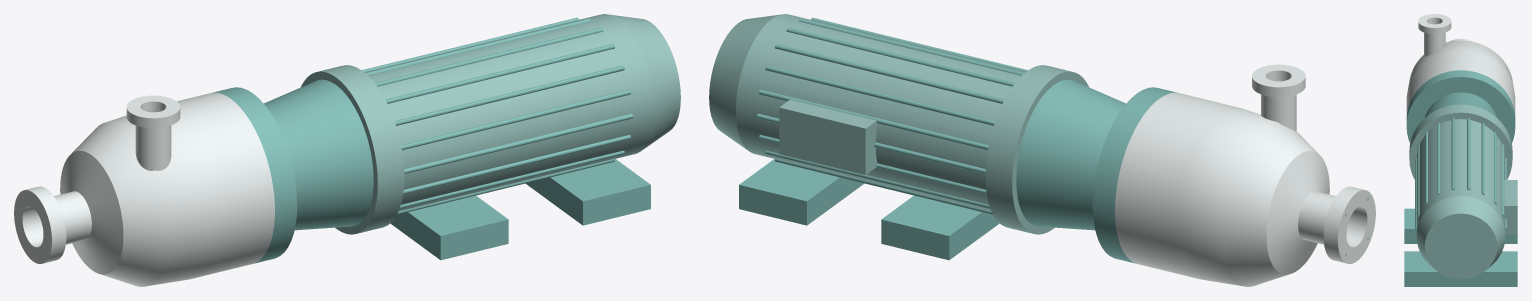
3 views of the same model, side by side, from view 1: azimuth 30°, elevation 25°; view 2: azimuth 150°, elevation 25°; view 3: azimuth 270°, elevation 25° (orthographic). The views are drawn at different scales.
Visible parts, largest first — view 1: 泵体_圆弧壳与轴向进液口, 电机_带筋机壳, 连接座_短连接段, 支脚_电机底脚 (×2), 电机_连接法兰, 连接座_泵壳连接环, 电机_圆弧尾罩, 接口_朝上出液法兰, 接口_偏置竖向出液管, 电机_散热筋09, 电机_散热筋08, 电机_散热筋10 (+7 smaller); view 2: 泵体_圆弧壳与轴向进液口, 电机_带筋机壳, 连接座_短连接段, 支脚_电机底脚 (×2), 电机_连接法兰, 电机_接线盒, 连接座_泵壳连接环, 电机_圆弧尾罩, 接口_朝上出液法兰, 电机_散热筋03, 电机_散热筋04, 电机_散热筋05 (+8 smaller); view 3: 电机_带筋机壳, 电机_圆弧尾罩, 连接座_泵壳连接环, 泵体_圆弧壳与轴向进液口, 支脚_电机底脚 (×2), 电机_连接法兰, 连接座_短连接段, 电机_接线盒, 接口_朝上出液法兰, 接口_偏置竖向出液管, 电机_散热筋05, 电机_散热筋06 (+7 smaller).
Part boxes in pixels (x1,y1,x2,y2): 泵体_圆弧壳与轴向进液口: (14, 92, 274, 286); 电机_带筋机壳: (365, 14, 653, 211); 连接座_短连接段: (264, 79, 373, 230); 支脚_电机底脚 (×2): (390, 159, 650, 260); 电机_连接法兰: (301, 65, 404, 234); 连接座_泵壳连接环: (212, 87, 297, 263); 电机_圆弧尾罩: (610, 14, 680, 150); 接口_朝上出液法兰: (126, 95, 180, 128); 接口_偏置竖向出液管: (135, 111, 171, 170); 电机_散热筋09: (401, 89, 630, 150); 电机_散热筋08: (394, 65, 624, 125); 电机_散热筋10: (404, 113, 632, 173); 泵体_圆弧壳与轴向进液口: (1115, 92, 1375, 286); 电机_带筋机壳: (736, 14, 1024, 211); 连接座_短连接段: (1016, 79, 1125, 230); 支脚_电机底脚 (×2): (739, 159, 999, 260); 电机_连接法兰: (985, 65, 1088, 234); 电机_接线盒: (779, 99, 877, 174); 连接座_泵壳连接环: (1092, 87, 1177, 263); 电机_圆弧尾罩: (709, 14, 779, 150); 接口_朝上出液法兰: (1252, 64, 1305, 97); 电机_散热筋03: (765, 65, 995, 125); 电机_散热筋04: (775, 44, 1004, 103); 电机_散热筋05: (786, 27, 1014, 86); 电机_带筋机壳: (1416, 119, 1505, 232); 电机_圆弧尾罩: (1416, 196, 1505, 279); 连接座_泵壳连接环: (1406, 70, 1515, 143); 泵体_圆弧壳与轴向进液口: (1406, 38, 1515, 115); 支脚_电机底脚 (×2): (1404, 208, 1517, 286); 电机_连接法兰: (1409, 104, 1512, 179); 连接座_短连接段: (1425, 92, 1496, 117); 电机_接线盒: (1504, 180, 1517, 234); 接口_朝上出液法兰: (1418, 14, 1451, 34); 接口_偏置竖向出液管: (1424, 23, 1445, 56); 电机_散热筋05: (1467, 118, 1470, 190); 电机_散热筋06: (1451, 118, 1454, 190).
Bounding box in the file's own units: 2.03 × 0.624 × 0.52.
